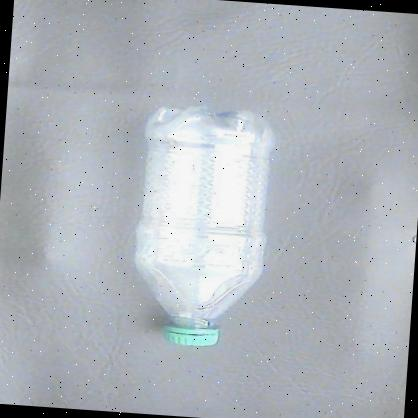bottle: (126, 98, 278, 354)
cap: (158, 320, 229, 349)
